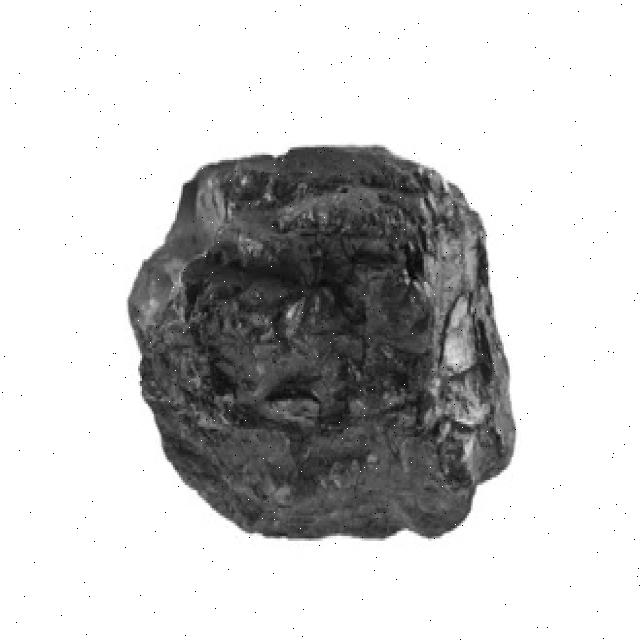Sedimentary: (127, 137, 526, 541)
